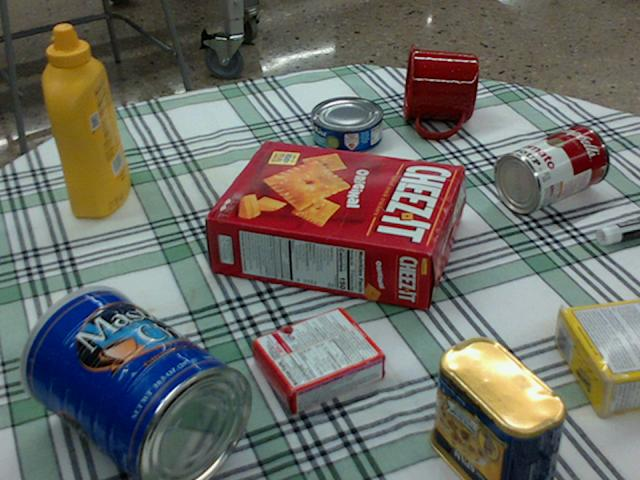cracker_box: (204, 138, 464, 310)
gelatin_box: (251, 307, 386, 410)
large_marker: (596, 218, 639, 243)
master_chef_can: (17, 287, 250, 479)
mug: (401, 44, 478, 137)
mustard_bottle: (43, 24, 130, 217)
potted_meat_can: (429, 334, 565, 479)
sugar_box: (555, 299, 639, 419)
tomato_soup_can: (494, 124, 607, 211)
tuna_fish_can: (310, 96, 382, 152)
